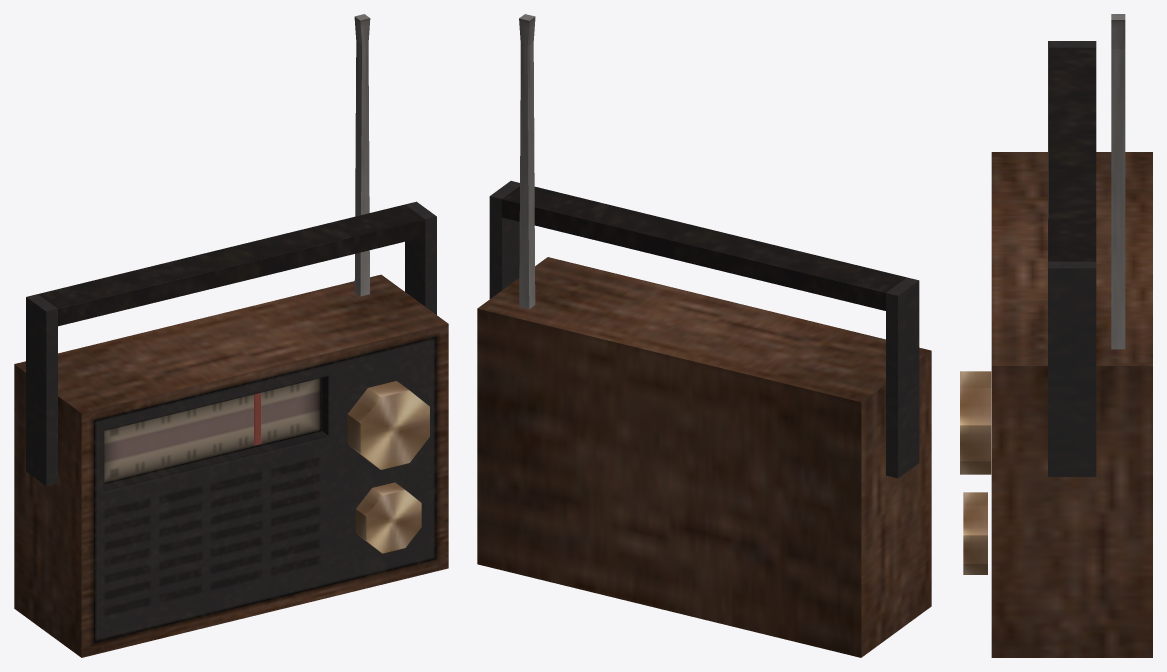
The model's file is [PSX] Radio Model.fbx.
3 renders of one model, left to right at view 1: azimuth 30°, elevation 25°; view 2: azimuth 150°, elevation 25°; view 3: azimuth 270°, elevation 25°, orthographic. The views are drawn at different scales.
Visible parts, largest first — view 1: Radio, Radio Handle, Dial Knob, Small Dial Knob, Radio Antenna; view 2: Radio, Radio Handle, Radio Antenna; view 3: Radio, Radio Handle, Radio Antenna, Dial Knob, Small Dial Knob.
Part boxes in pixels (left/top/right/bottom): Radio: left=14, top=274, right=448, bottom=657; Radio Handle: left=26, top=201, right=436, bottom=486; Dial Knob: left=347, top=381, right=429, bottom=469; Small Dial Knob: left=355, top=482, right=421, bottom=553; Radio Antenna: left=354, top=14, right=370, bottom=296; Radio: left=477, top=257, right=931, bottom=657; Radio Handle: left=489, top=181, right=919, bottom=478; Radio Antenna: left=519, top=14, right=535, bottom=309; Radio: left=991, top=152, right=1152, bottom=657; Radio Handle: left=1048, top=41, right=1096, bottom=476; Radio Antenna: left=1111, top=14, right=1125, bottom=349; Dial Knob: left=960, top=371, right=991, bottom=474; Small Dial Knob: left=963, top=492, right=987, bottom=574.
Bounding box in the file's own units: 23.4 × 29.8 × 8.38.
1 material, 1 textured.
